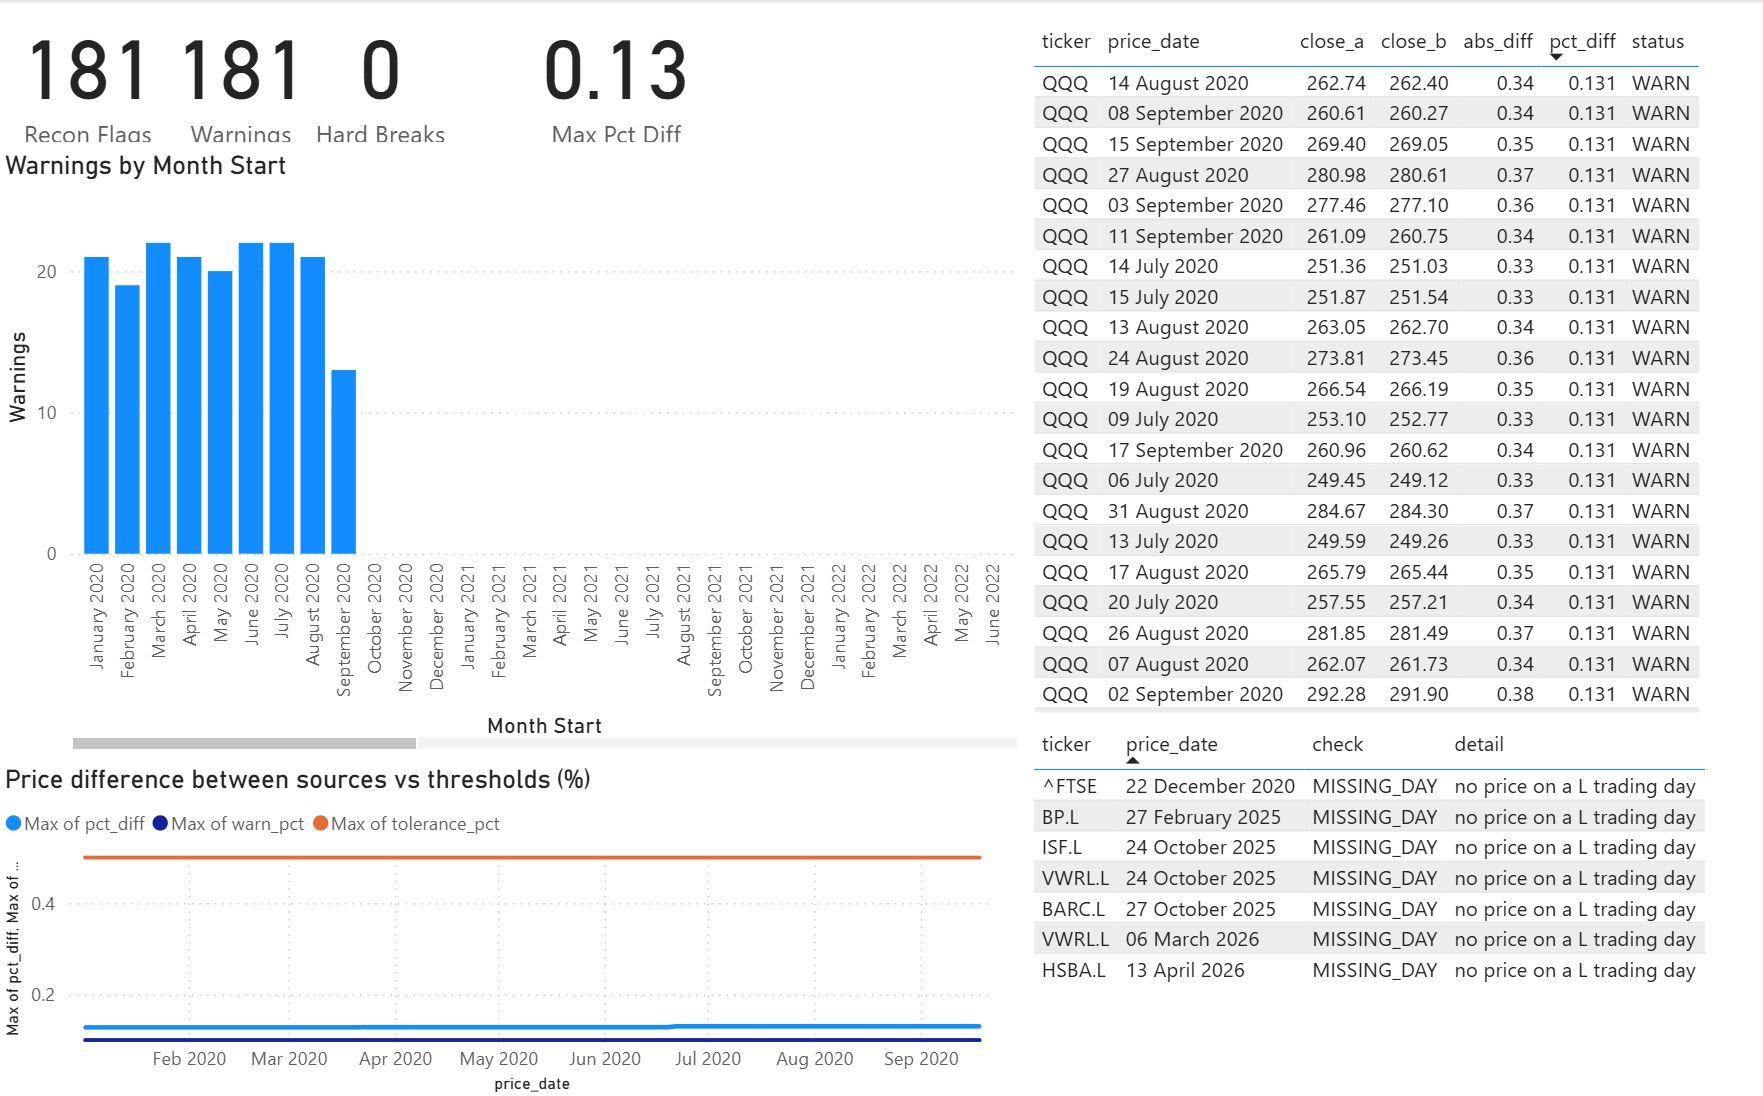

Layout of this report page (visuals, bound fields, positions):
{"tool":"powerbi","page":{"name":"Reconciliation","canvas":[1280,720],"ordinal":4},"visuals":[{"type":"card","fields":{"Values":["_Measures.Recon Flags"]},"box":[9.8,0,99.5,98.2],"z":0},{"type":"card","fields":{"Values":["_Measures.Max Pct Diff"]},"box":[299.1,0,207.4,98.2],"z":1},{"type":"card","fields":{"Values":["_Measures.Warnings"]},"box":[109.3,0,100.8,98.2],"z":2},{"type":"card","fields":{"Values":["_Measures.Hard Breaks"]},"box":[202.9,0,96.2,98.2],"z":3},{"type":"clusteredColumnChart","fields":{"Y":["_Measures.Warnings"],"Category":["dim_calendar.Month Start"]},"box":[0,98.2,672.7,397.2],"z":4},{"type":"tableEx","fields":{"Values":["reconciliation_breaks.ticker","reconciliation_breaks.price_date","reconciliation_breaks.close_a","reconciliation_breaks.close_b","reconciliation_breaks.abs_diff","reconciliation_breaks.pct_diff","reconciliation_breaks.status"]},"box":[672.7,11.1,607.3,460],"z":5},{"type":"lineChart","title":"Price difference between sources vs thresholds (%)","fields":{"Y":["Max(reconciliation_breaks.pct_diff)","Max(reconciliation_breaks.warn_pct)","Max(reconciliation_breaks.tolerance_pct)"],"Category":["reconciliation_breaks.price_date"]},"box":[0,500,672.7,219.9],"z":6},{"type":"tableEx","fields":{"Values":["dq_results.ticker","dq_results.price_date","dq_results.check","dq_results.detail"]},"box":[672.7,471.2,575.2,243.4],"z":7}]}

Visuals, with their boxes on the page's 1280x720 design canvas (x1, y1, x2, y2). These are canvas units, not pixel positions in the 1763x1096 screenshot, which may show the page scaled, cropped or inside an application window:
card - _Measures.Recon Flags: bbox(10, 0, 109, 98)
card - _Measures.Max Pct Diff: bbox(299, 0, 506, 98)
card - _Measures.Warnings: bbox(109, 0, 210, 98)
card - _Measures.Hard Breaks: bbox(203, 0, 299, 98)
clusteredColumnChart - _Measures.Warnings x dim_calendar.Month Start: bbox(0, 98, 673, 495)
tableEx - reconciliation_breaks.ticker x reconciliation_breaks.price_date: bbox(673, 11, 1280, 471)
"Price difference between sources vs thresholds (%)" lineChart: bbox(0, 500, 673, 720)
tableEx - dq_results.ticker x dq_results.price_date: bbox(673, 471, 1248, 715)
